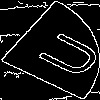U: (25, 25, 100, 81)
